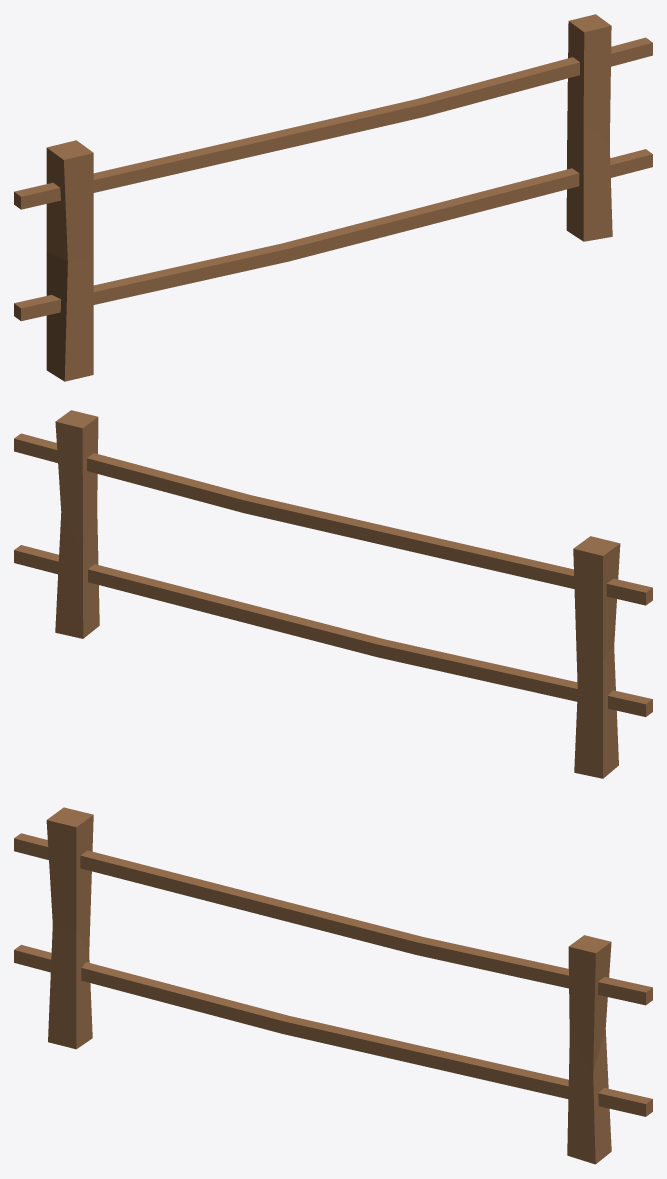
File: Fence_4.fbx
3 renders of one model, top to bottom at view 1: azimuth 30°, elevation 25°; view 2: azimuth 150°, elevation 25°; view 3: azimuth 330°, elevation 25°, orthographic.
Parts seen in each view (by area): view 1: Fence4_mesh; view 2: Fence4_mesh; view 3: Fence4_mesh.
Part boxes in pixels (x1,y1,x2,y2): Fence4_mesh: (14,14,652,381); Fence4_mesh: (14,410,652,778); Fence4_mesh: (14,807,652,1164).
Bounding box in the file's own units: 316 × 107 × 14.93.
